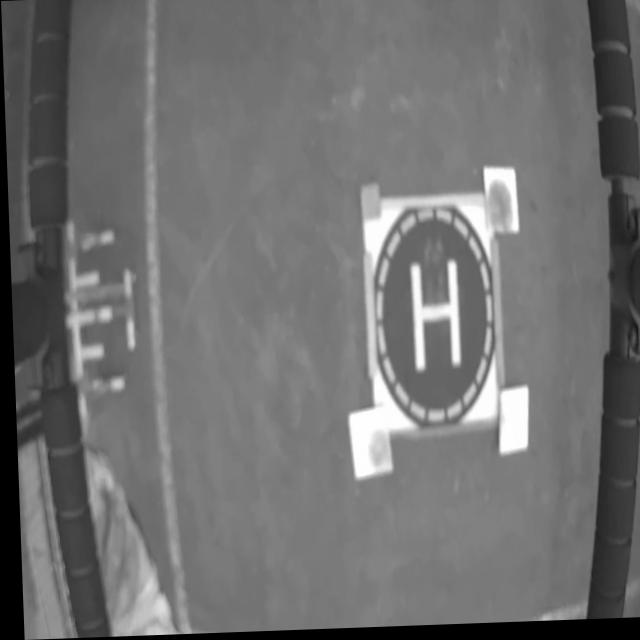Helipad: (407, 261, 458, 374)
